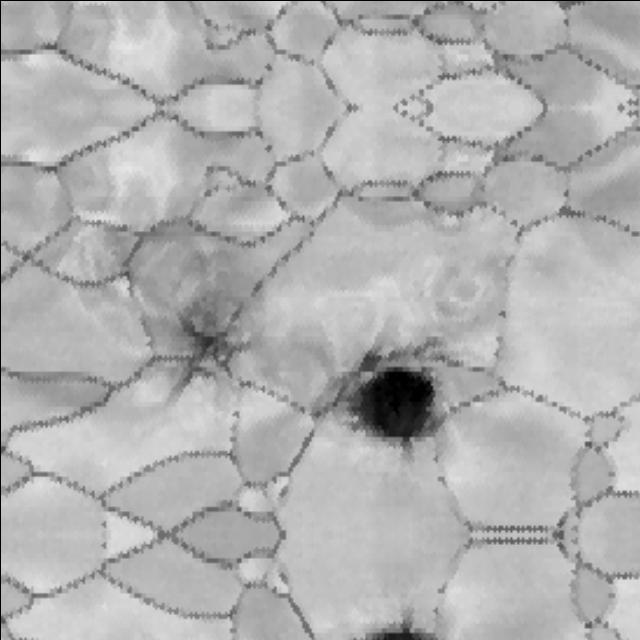good_void: (340, 342, 454, 453), (165, 283, 248, 406), (491, 306, 512, 321), (97, 516, 108, 529), (97, 538, 108, 551)
